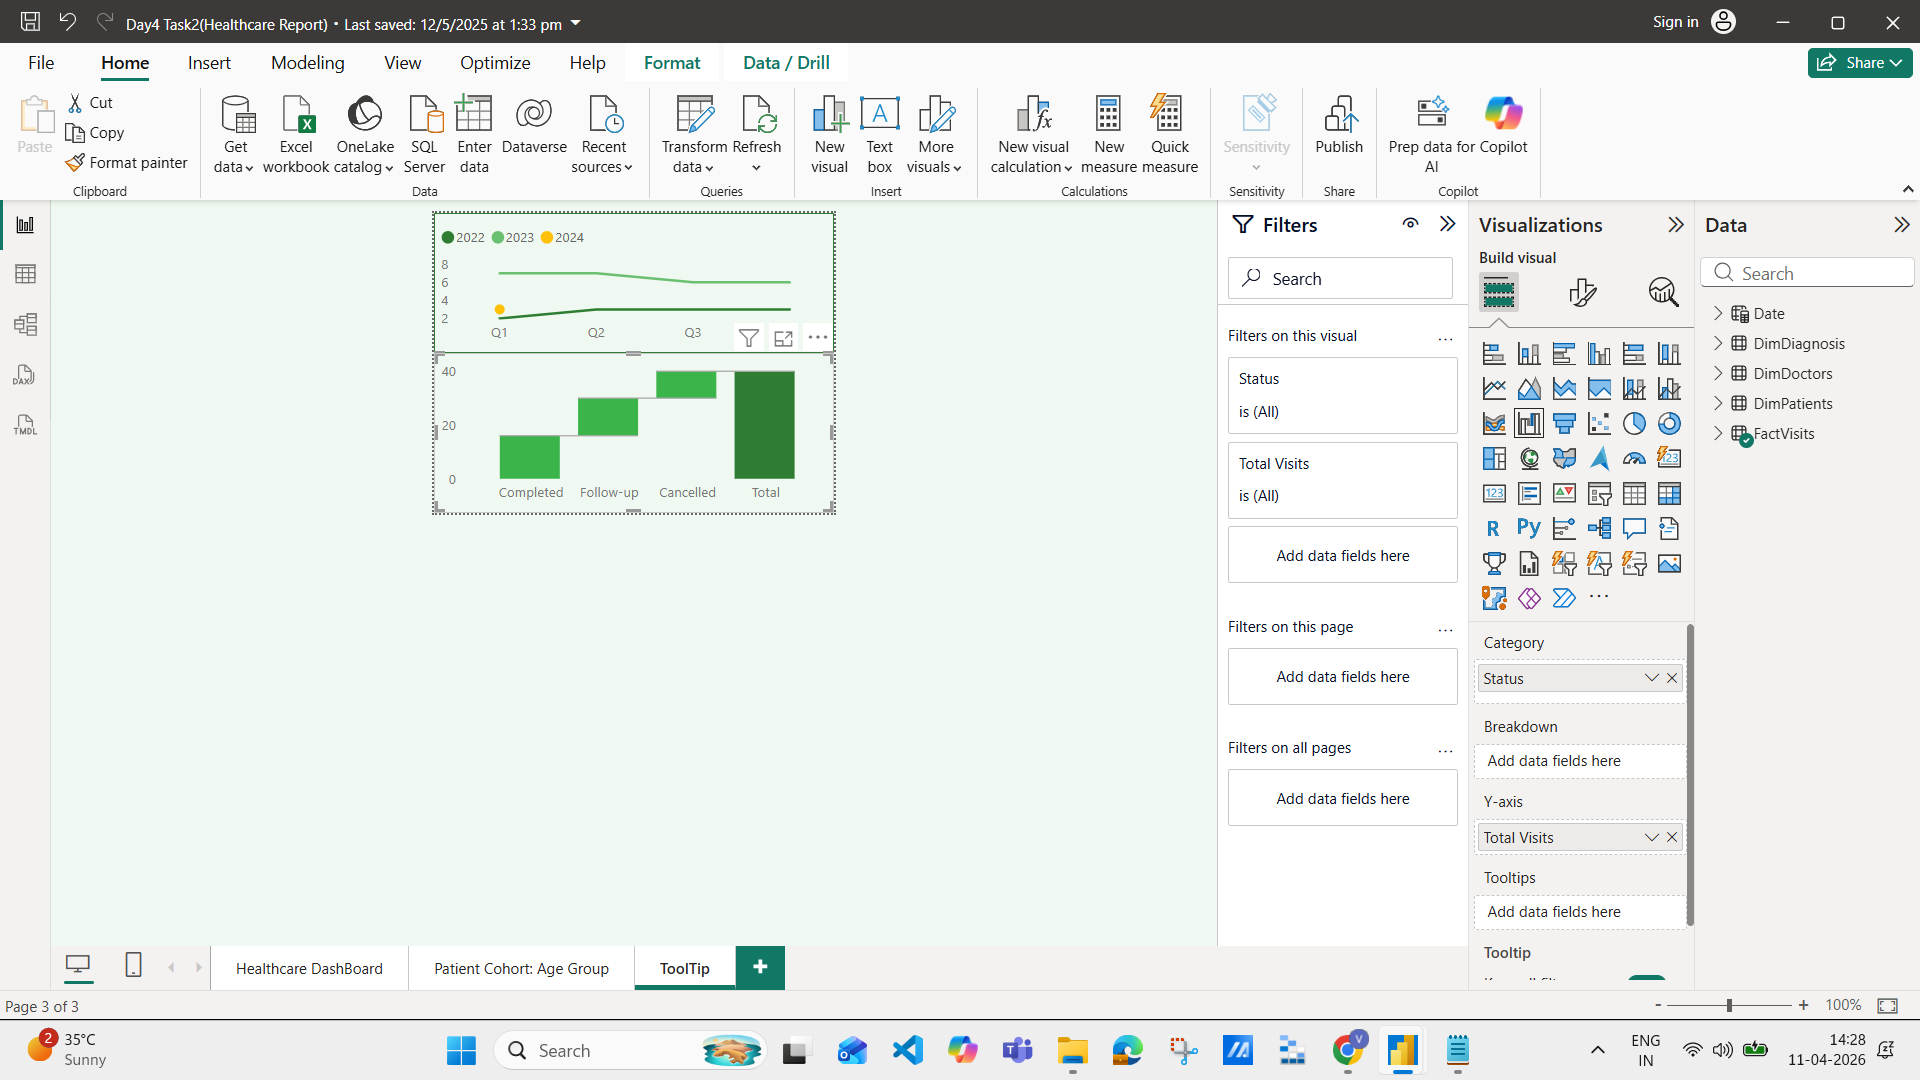

Layout of this report page (visuals, bound fields, positions):
{"tool":"powerbi","page":{"name":"ToolTip","canvas":[320,240],"ordinal":2},"visuals":[{"type":"lineChart","fields":{"Y":["FactVisits.Total Visits"],"Series":["Date.Year"],"Category":["Date.Quarter"]},"box":[0,0,320,112],"z":0},{"type":"waterfallChart","fields":{"Category":["FactVisits.Status"],"Y":["FactVisits.Total Visits"]},"box":[0,112,320,128],"z":1000}]}

Visuals, with their boxes on the page's 320x240 design canvas (x1, y1, x2, y2). These are canvas units, not pixel positions in the 1920x1080 screenshot, which may show the page scaled, cropped or inside an application window:
lineChart - FactVisits.Total Visits x Date.Year: crop(0, 0, 320, 112)
waterfallChart - FactVisits.Status x FactVisits.Total Visits: crop(0, 112, 320, 240)
